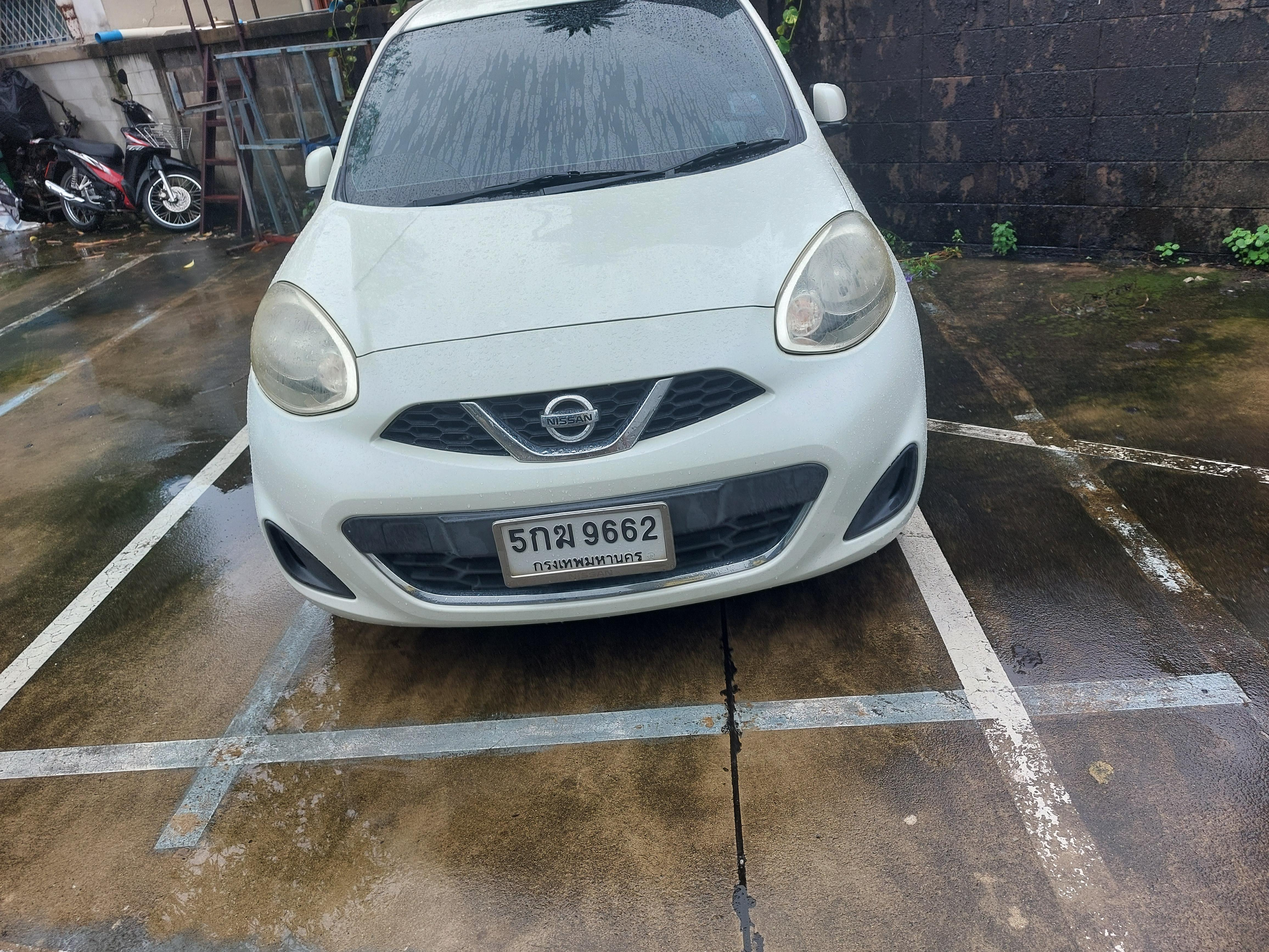license-plate: (490, 498, 678, 592)
